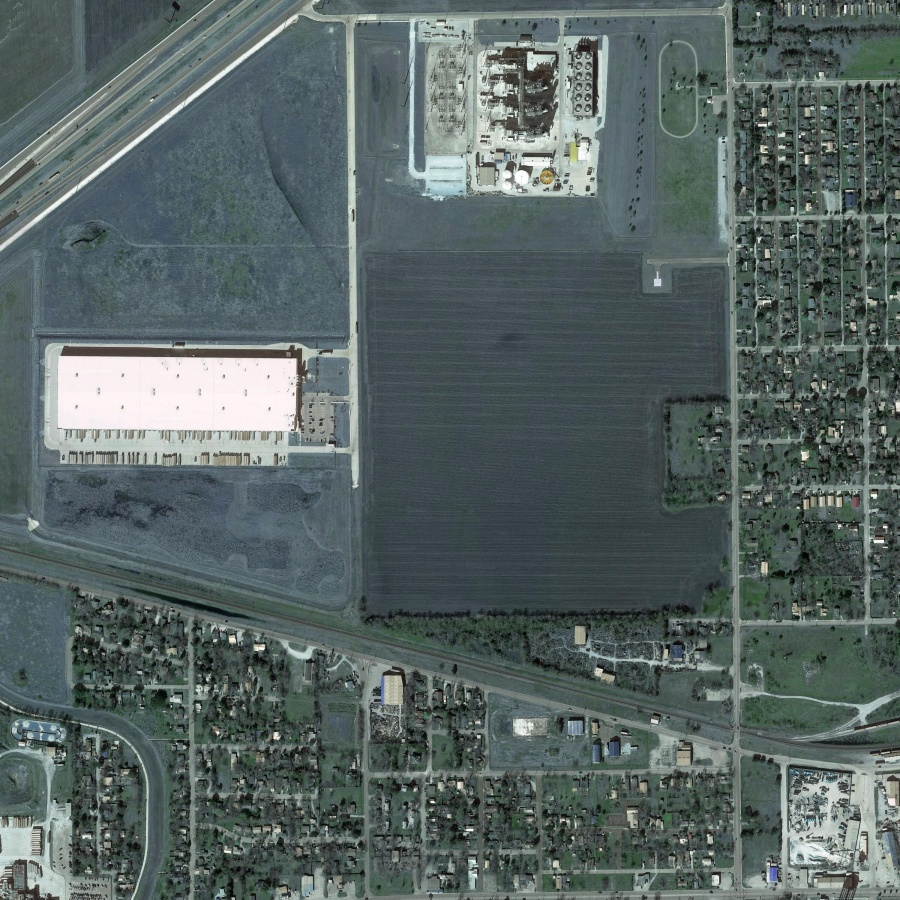PowerPlant: (411, 14, 605, 203)
